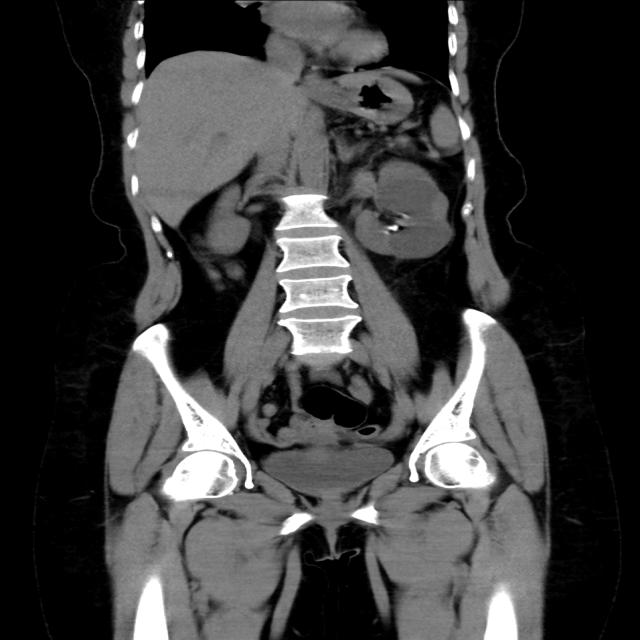kidneystone: (385, 224, 396, 232)
